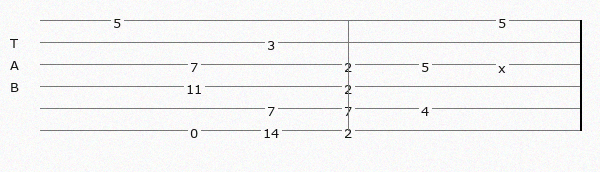0: (190, 124, 202, 137)
11: (186, 80, 206, 93)
14: (263, 124, 283, 137)
2: (344, 58, 356, 71), (344, 124, 356, 137), (344, 80, 356, 93)
3: (267, 36, 279, 49)
4: (421, 102, 433, 115)
5: (113, 14, 125, 27), (421, 58, 433, 71), (498, 14, 510, 27)
7: (190, 58, 202, 71), (267, 102, 279, 115), (344, 102, 356, 115)
x: (498, 59, 510, 70)
